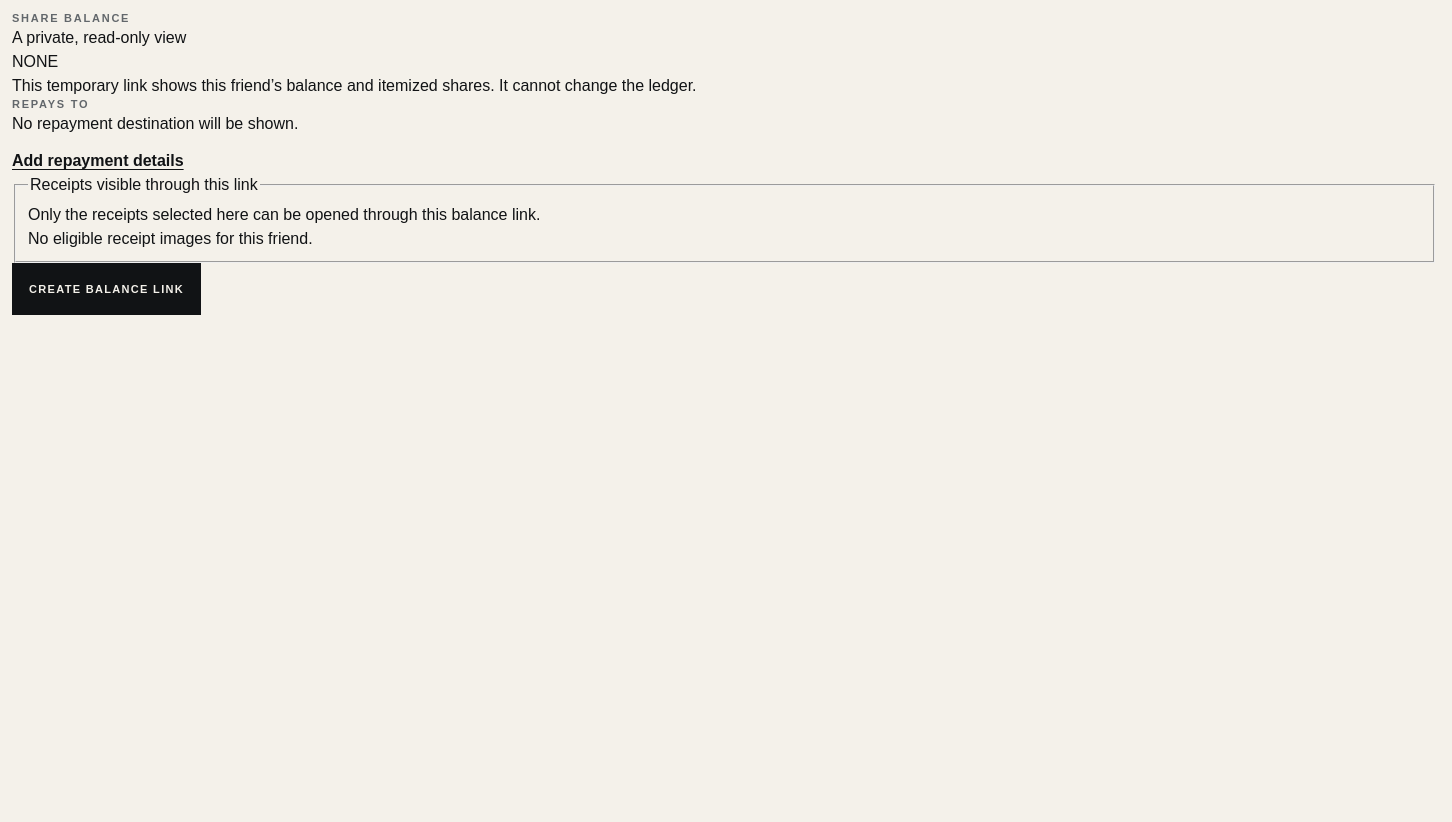
Test: FriendShareLink › falls back to selecting the visible URL when clipboard write fails
The image size is (1452, 822).
Step 1. Submit the form named "Create balance link", box [12, 173, 1437, 315]
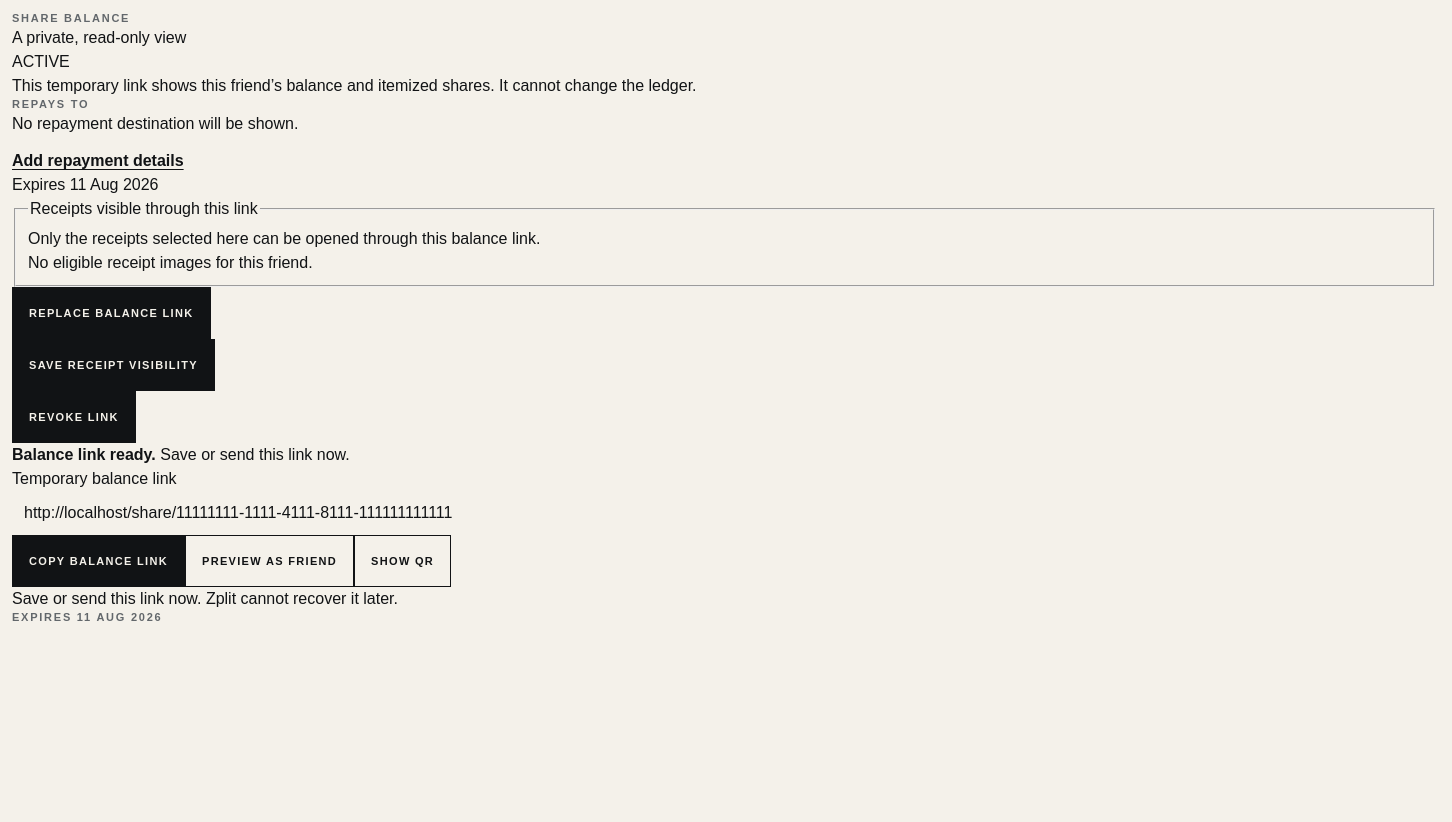
Now the button "Copy balance link" is shown
Step 2. Click the button "Copy balance link" → (98, 562), box [12, 536, 185, 588]
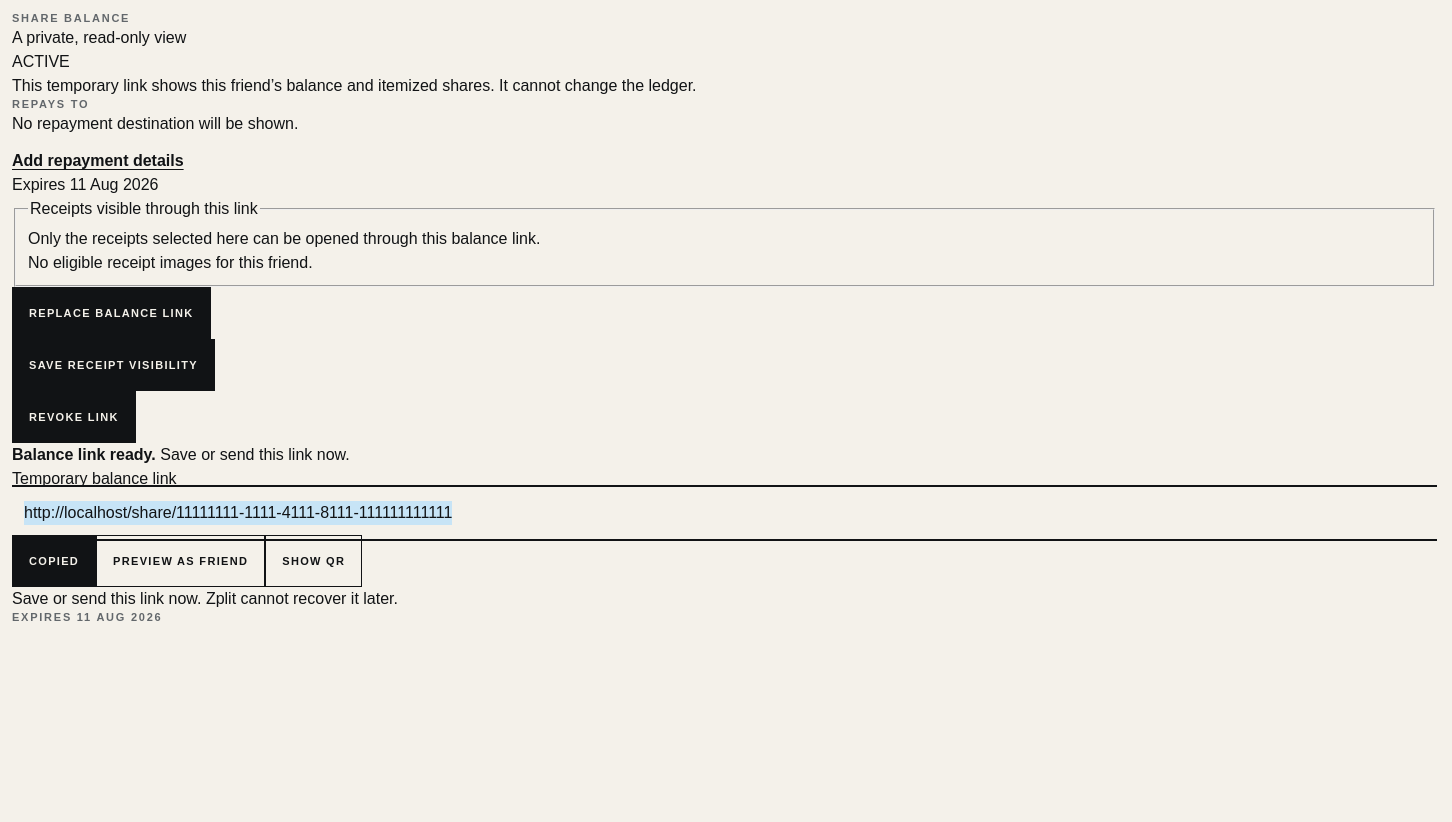
Now the button "Copied" is shown, box [12, 536, 96, 588]
